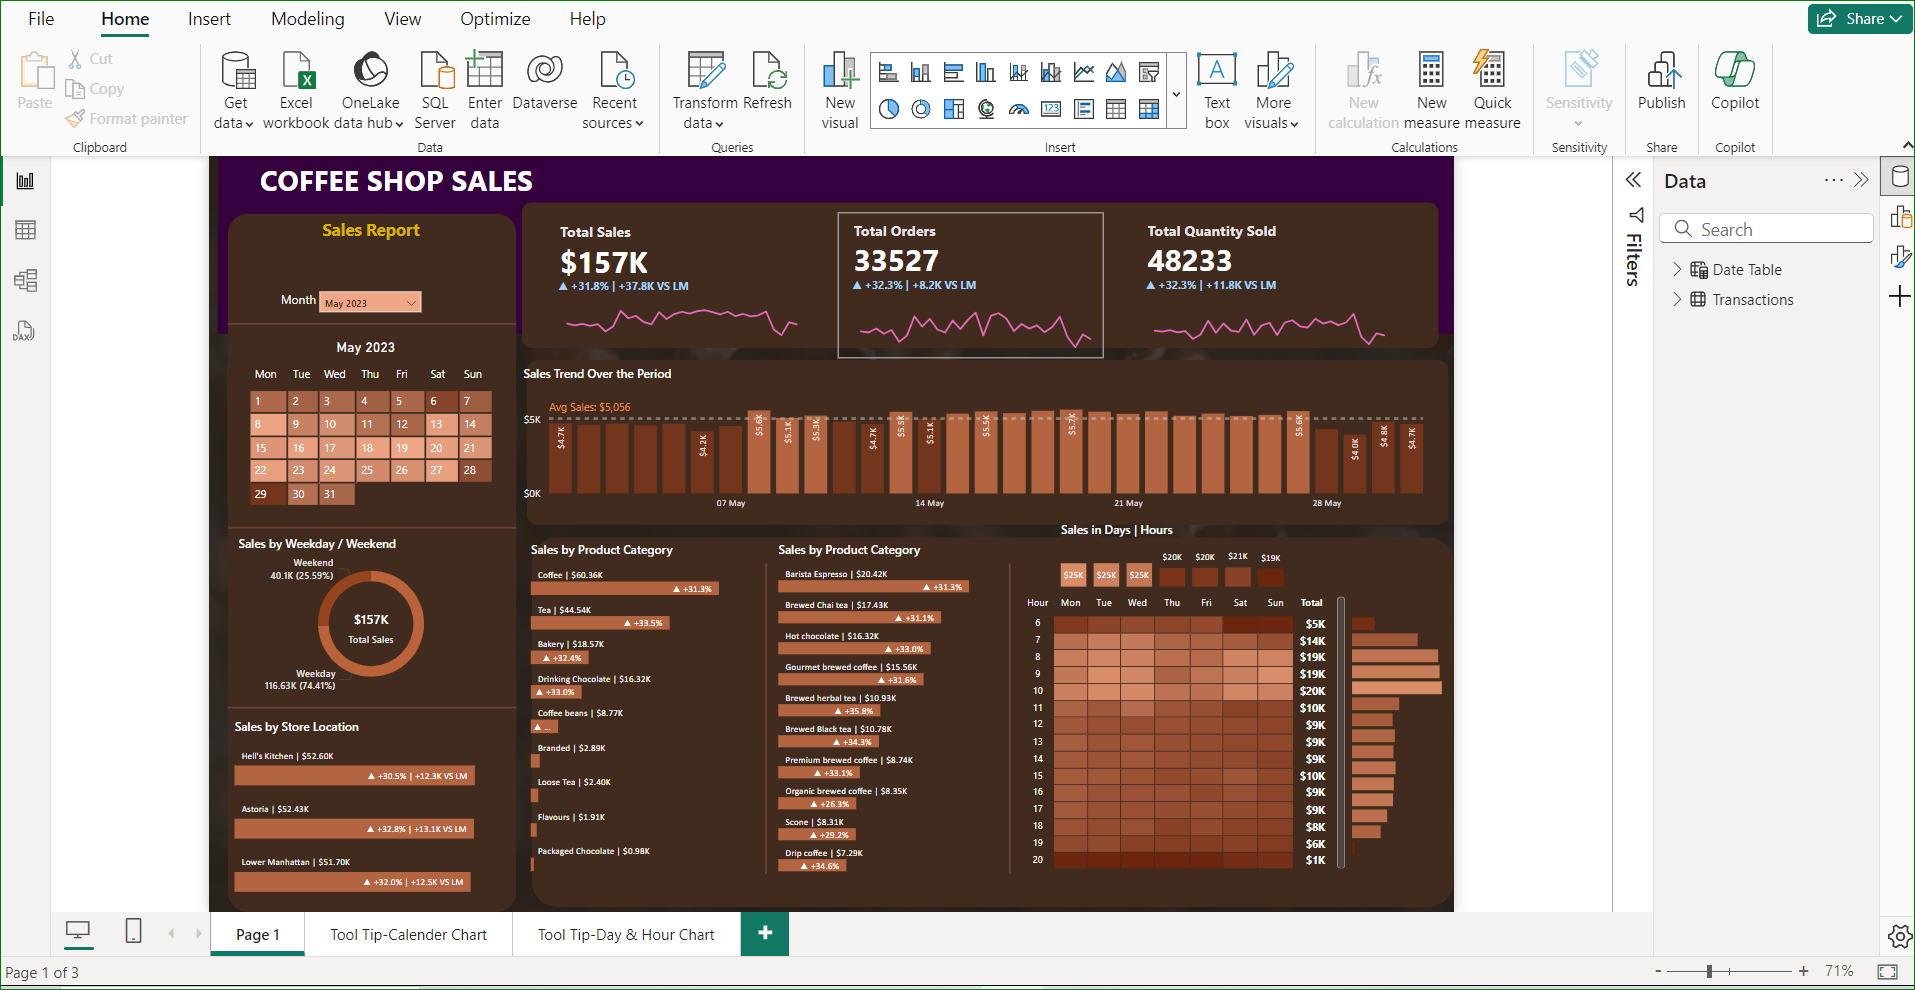

The page's visual inventory and layout, read from the dashboard file:
{"tool":"powerbi","page":{"name":"Page 1","canvas":[1400,850],"ordinal":0},"visuals":[{"type":"shape","box":[9.8,0,1390,200],"z":0},{"type":"shape","box":[21.1,64.6,324.7,785.6],"z":1000},{"type":"shape","box":[351.4,51.4,1031.4,164.3],"z":2000},{"type":"textbox","box":[34.3,0,354.3,55.7],"z":3000},{"type":"cardVisual","fields":{"Data":["Transactions.Total Quantity Sold"]},"box":[1036.8,63.1,299.4,164.4],"z":4000,"group":"g3"},{"type":"cardVisual","fields":{"Data":["Date Table.Total Orders"]},"box":[706.4,63.2,299.4,164.4],"z":4000,"group":"g2"},{"type":"cardVisual","fields":{"Data":["Transactions.Total Sales"]},"box":[377.1,64.7,299.4,164.4],"z":4000,"group":"g1"},{"type":"slicer","fields":{"Values":["Date Table.Month Year"]},"box":[120,147.1,124.3,34.3],"z":4000},{"type":"group","id":"g1","title":"Group 1","box":[377.1,64.7,298.2,164.1],"z":5000},{"type":"lineChart","fields":{"Category":["Date Table.Date Hierarchy.Date"],"Y":["Transactions.Total Quantity Sold"]},"box":[1048,136.2,288.1,85.7],"z":5001,"group":"g3"},{"type":"lineChart","fields":{"Category":["Date Table.Date Hierarchy.Date"],"Y":["Date Table.Total Orders"]},"box":[717.6,136.3,288.1,85.7],"z":5001,"group":"g2"},{"type":"lineChart","fields":{"Category":["Date Table.Date Hierarchy.Date"],"Y":["Transactions.Total Sales"]},"box":[388.3,137.8,288.1,85.7],"z":5001,"group":"g1"},{"type":"group","id":"g2","title":"Group 1","box":[706.4,63.2,299.4,164.4],"z":6000},{"type":"group","id":"g3","title":"Group 1","box":[1036.8,63.1,299.8,165.7],"z":7000},{"type":"pivotTable","fields":{"Rows":["Date Table.Week Number"],"Columns":["Date Table.Day Name"],"Values":["Min(Date Table.Day Number)"]},"box":[15.8,228.8,325.1,200.4],"z":8000},{"type":"card","fields":{"Values":["Min(Date Table.Month Year)"]},"box":[120,200,114.4,32.2],"z":9000},{"type":"shape","box":[21.1,405.6,324.4,23.3],"z":10000},{"type":"shape","box":[362.9,428.6,1037.1,415.7],"z":11000},{"type":"shape","box":[21.1,176.7,324.4,23.3],"z":12000},{"type":"donutChart","title":"Sales by Weekday / Weekend","fields":{"Category":["Date Table.Weekday / Weekend"],"Y":["Sum(Transactions.Sales)"]},"box":[28.6,425.7,308.6,182.9],"z":13000},{"type":"card","fields":{"Values":["Transactions.Total Sales"]},"box":[131.1,505.6,103.3,47.8],"z":14000},{"type":"shape","box":[21.1,608.9,324.4,23.3],"z":15000},{"type":"clusteredBarChart","title":"Sales by Store Location","fields":{"Category":["Transactions.store_location"],"Y":["Transactions.Placeholder","Transactions.Total Sales"]},"box":[24.4,632.2,305.6,203.3],"z":16000},{"type":"shape","box":[357.1,228.6,1037.1,185.7],"z":17000},{"type":"columnChart","title":"Sales Trend Over the Period","fields":{"Category":["Transactions.transaction_date"],"Y":["Transactions.Total Sales"]},"box":[348.6,234.3,1025.7,172.9],"z":18000},{"type":"clusteredBarChart","title":"Sales by Product Category","fields":{"Y":["Transactions.Placeholder","Transactions.Total Sales"],"Category":["Transactions.product_category"]},"box":[357.1,432.9,250,377.1],"z":19000},{"type":"shape","box":[617.1,458.6,18.6,348.6],"z":20000},{"type":"clusteredBarChart","title":"Sales by Product Category","fields":{"Y":["Transactions.Placeholder","Transactions.Total Sales"],"Category":["Transactions.product_type"]},"box":[635.7,432.9,255.7,377.1],"z":21000},{"type":"shape","box":[891.4,458.6,18.6,348.6],"z":22000},{"type":"pivotTable","fields":{"Rows":["Transactions.Hour"],"Columns":["Date Table.Day Name"],"Values":["Transactions.Total Sales"]},"box":[910,490,372.9,315.7],"z":23000},{"type":"clusteredBarChart","fields":{"Category":["Transactions.Hour"],"Y":["Transactions.Total Sales"]},"box":[1280,505.7,112.9,284.3],"z":24000},{"type":"columnChart","title":"Sales in Days | Hours","fields":{"Y":["Transactions.Total Sales"],"Category":["Date Table.Day Name"]},"box":[952.9,410,261.4,80],"z":25000},{"type":"textbox","box":[57.1,147.1,85.7,34.3],"z":26000},{"type":"textbox","box":[100,64.3,164.3,47.1],"z":27000}]}

Visuals, with their boxes on the page's 1400x850 design canvas (x1, y1, x2, y2). These are canvas units, not pixel positions in the 1915x990 screenshot, which may show the page scaled, cropped or inside an application window:
shape: <region>10, 0, 1400, 200</region>
shape: <region>21, 65, 346, 850</region>
shape: <region>351, 51, 1383, 216</region>
textbox: <region>34, 0, 389, 56</region>
cardVisual - Transactions.Total Quantity Sold: <region>1037, 63, 1336, 228</region>
cardVisual - Date Table.Total Orders: <region>706, 63, 1006, 228</region>
cardVisual - Transactions.Total Sales: <region>377, 65, 676, 229</region>
slicer - Date Table.Month Year: <region>120, 147, 244, 181</region>
"Group 1" group: <region>377, 65, 675, 229</region>
lineChart - Date Table.Date Hierarchy.Date x Transactions.Total Quantity Sold: <region>1048, 136, 1336, 222</region>
lineChart - Date Table.Date Hierarchy.Date x Date Table.Total Orders: <region>718, 136, 1006, 222</region>
lineChart - Date Table.Date Hierarchy.Date x Transactions.Total Sales: <region>388, 138, 676, 224</region>
"Group 1" group: <region>706, 63, 1006, 228</region>
"Group 1" group: <region>1037, 63, 1337, 229</region>
pivotTable - Date Table.Week Number x Date Table.Day Name: <region>16, 229, 341, 429</region>
card - Min(Date Table.Month Year): <region>120, 200, 234, 232</region>
shape: <region>21, 406, 346, 429</region>
shape: <region>363, 429, 1400, 844</region>
shape: <region>21, 177, 346, 200</region>
"Sales by Weekday / Weekend" donutChart: <region>29, 426, 337, 609</region>
card - Transactions.Total Sales: <region>131, 506, 234, 553</region>
shape: <region>21, 609, 346, 632</region>
"Sales by Store Location" clusteredBarChart: <region>24, 632, 330, 836</region>
shape: <region>357, 229, 1394, 414</region>
"Sales Trend Over the Period" columnChart: <region>349, 234, 1374, 407</region>
"Sales by Product Category" clusteredBarChart: <region>357, 433, 607, 810</region>
shape: <region>617, 459, 636, 807</region>
"Sales by Product Category" clusteredBarChart: <region>636, 433, 891, 810</region>
shape: <region>891, 459, 910, 807</region>
pivotTable - Transactions.Hour x Date Table.Day Name: <region>910, 490, 1283, 806</region>
clusteredBarChart - Transactions.Hour x Transactions.Total Sales: <region>1280, 506, 1393, 790</region>
"Sales in Days | Hours" columnChart: <region>953, 410, 1214, 490</region>
textbox: <region>57, 147, 143, 181</region>
textbox: <region>100, 64, 264, 111</region>
